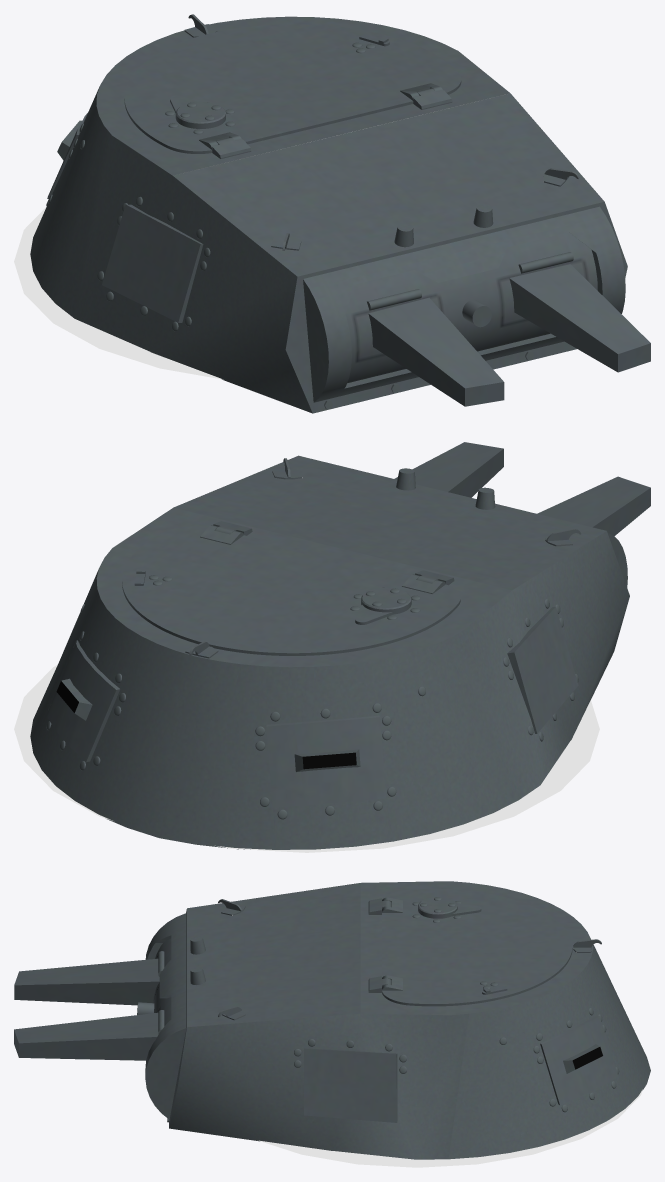
File: Healer.fbx
The picture shows the model from 3 angles, top to bottom: view 1: azimuth 30°, elevation 25°; view 2: azimuth 150°, elevation 25°; view 3: azimuth 270°, elevation 25°; orthographic projection. The views are drawn at different scales.
Parts seen in each view (by area): view 1: Model, Group1, Group17, Group19, Group18, fg_1_1, zaw3_2_1, zaw3_2_2; view 2: Model, Group1, Group_42_1, fg_1_1, Group_42_2, Group18, Group19, Group36, Group37; view 3: Model, Group1, fg_1_2, Group17, Group19, Group18, Group_42_2, Group37.
Boxes of the visible parts, box(x1,y1,x2,y2) form: Model: box(14, 16, 627, 413); Group1: box(124, 24, 461, 153); Group17: box(303, 206, 625, 402); Group19: box(509, 264, 650, 372); Group18: box(368, 297, 504, 406); fg_1_1: box(102, 204, 203, 322); zaw3_2_1: box(413, 88, 452, 109); zaw3_2_2: box(212, 137, 251, 158); Model: box(14, 455, 629, 852); Group1: box(122, 526, 460, 655); Group_42_1: box(266, 715, 385, 807); fg_1_1: box(507, 606, 578, 733); Group_42_2: box(46, 642, 120, 762); Group18: box(537, 476, 650, 535); Group19: box(394, 442, 503, 497); Group36: box(294, 749, 360, 772); Group37: box(56, 678, 92, 720); Model: box(137, 881, 650, 1167); Group1: box(382, 889, 572, 1006); fg_1_2: box(304, 1048, 397, 1122); Group17: box(145, 913, 186, 1119); Group19: box(14, 1012, 158, 1060); Group18: box(14, 958, 159, 1005); Group_42_2: box(540, 1015, 618, 1105); Group37: box(563, 1044, 602, 1073).
Size of the model in its own units: 1144 by 357 by 1573.
